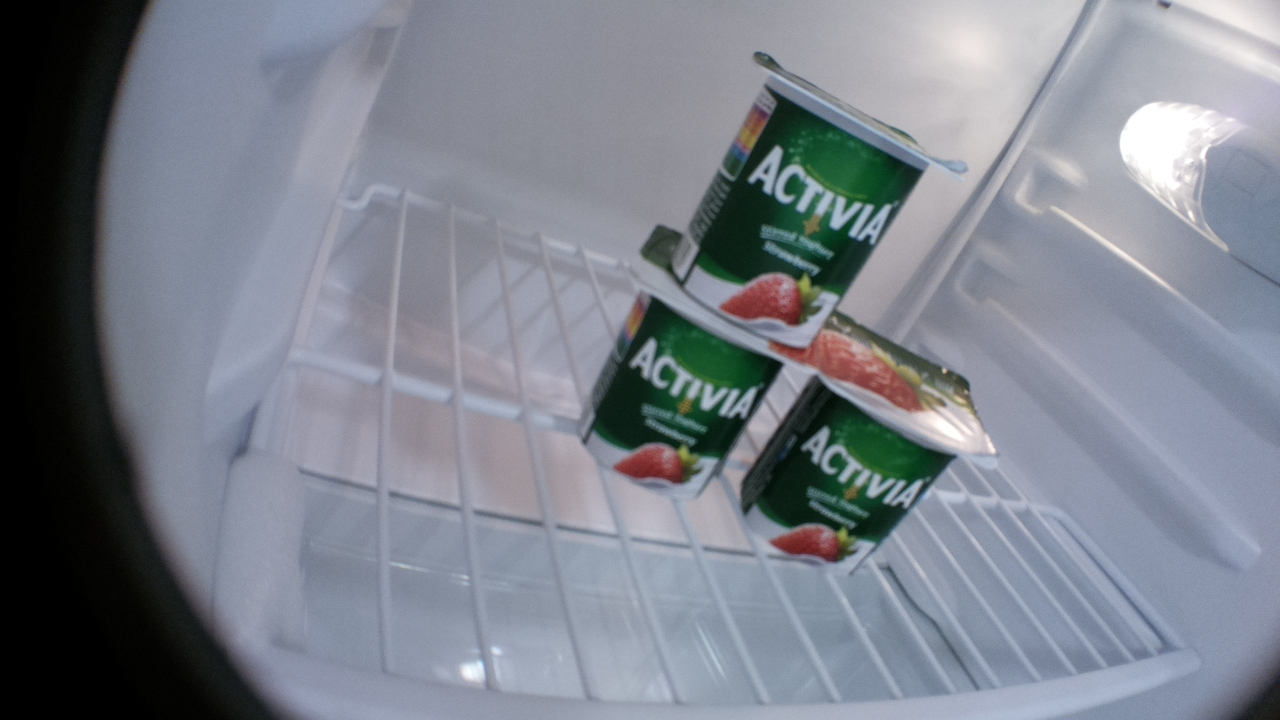yoghurt: (664, 50, 972, 350), (739, 318, 999, 584), (574, 223, 815, 501)
